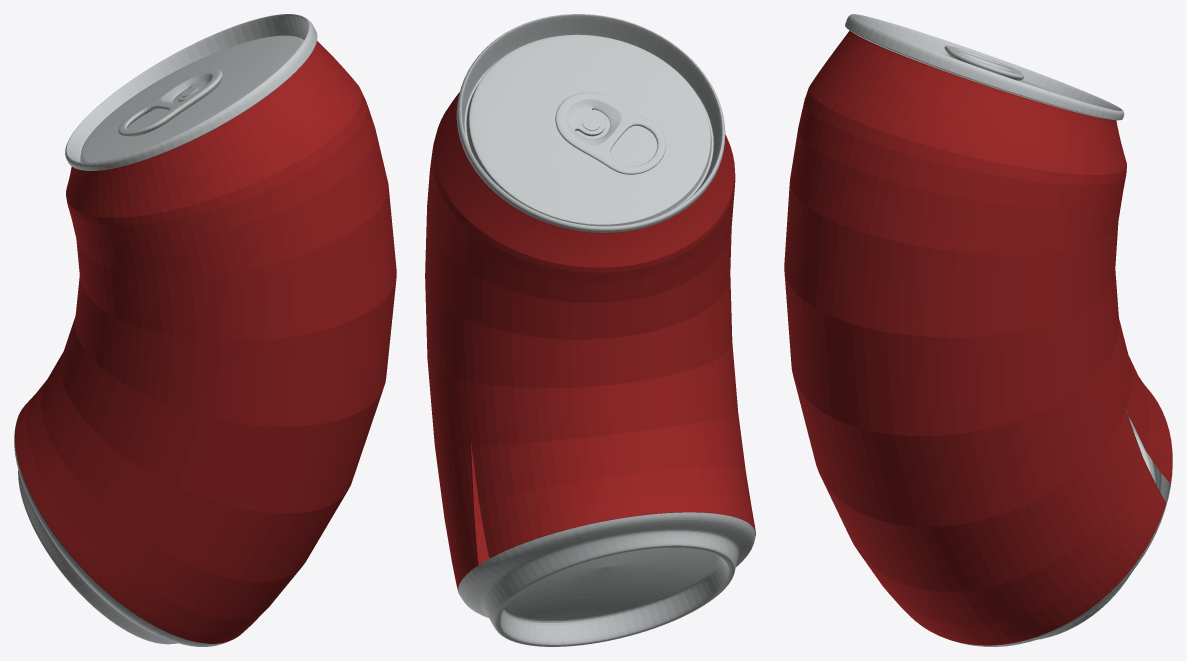
Rendered from bend_high_1.obj.
3 views of the same model, side by side, from view 1: azimuth 30°, elevation 25°; view 2: azimuth 150°, elevation 25°; view 3: azimuth 270°, elevation 25° (orthographic). The views are drawn at different scales.
Visible parts, largest first — view 1: model; view 2: model; view 3: model.
Part boxes in pixels (x1,y1,x2,y2): model: (14,14,396,646); model: (425,14,755,646); model: (784,14,1172,646).
Size of the model in its own units: 0.0808 by 0.1442 by 0.0804.
Materials: 1 (1 with a texture image).
